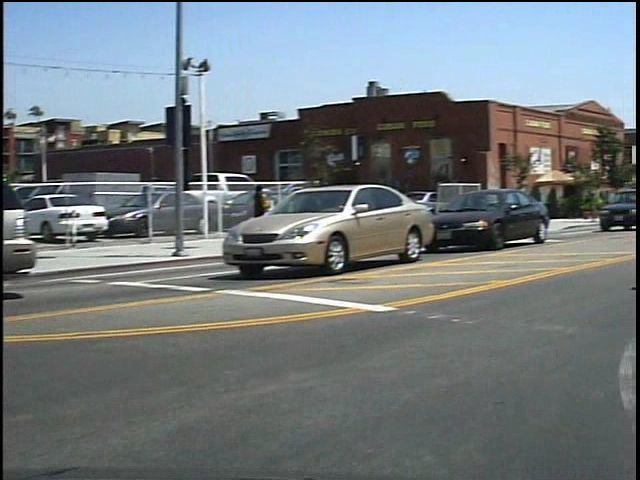person: (255, 177, 280, 240)
